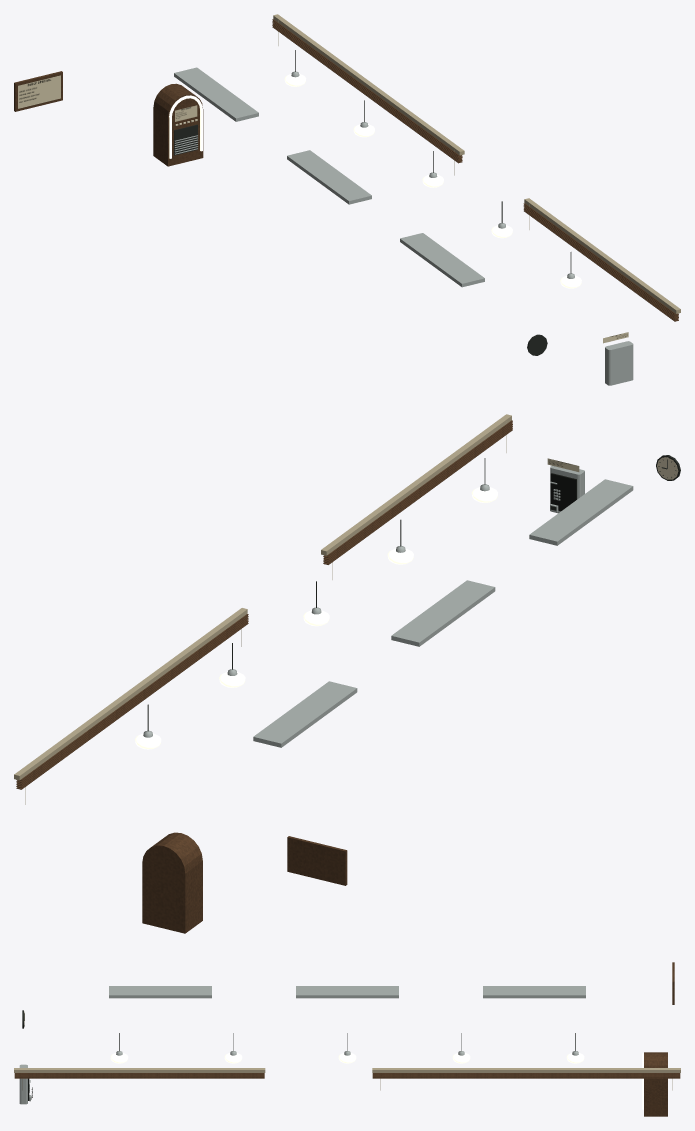
File: SM_Mesa_Fixtures_LOD1.fbx
The picture shows the model from 3 angles, top to bottom: view 1: azimuth 30°, elevation 25°; view 2: azimuth 150°, elevation 25°; view 3: azimuth 270°, elevation 25°; orthographic projection. The views are drawn at different scales.
Visible parts, largest first — view 1: SM_Mesa_Fixtures_LOD1; view 2: SM_Mesa_Fixtures_LOD1; view 3: SM_Mesa_Fixtures_LOD1.
Part boxes in pixels (bbox=[...]): SM_Mesa_Fixtures_LOD1: bbox=[14, 14, 680, 385]; SM_Mesa_Fixtures_LOD1: bbox=[14, 414, 680, 933]; SM_Mesa_Fixtures_LOD1: bbox=[14, 962, 680, 1116].
Bounding box in the file's own units: 6.84 × 17.84 × 3.09.
